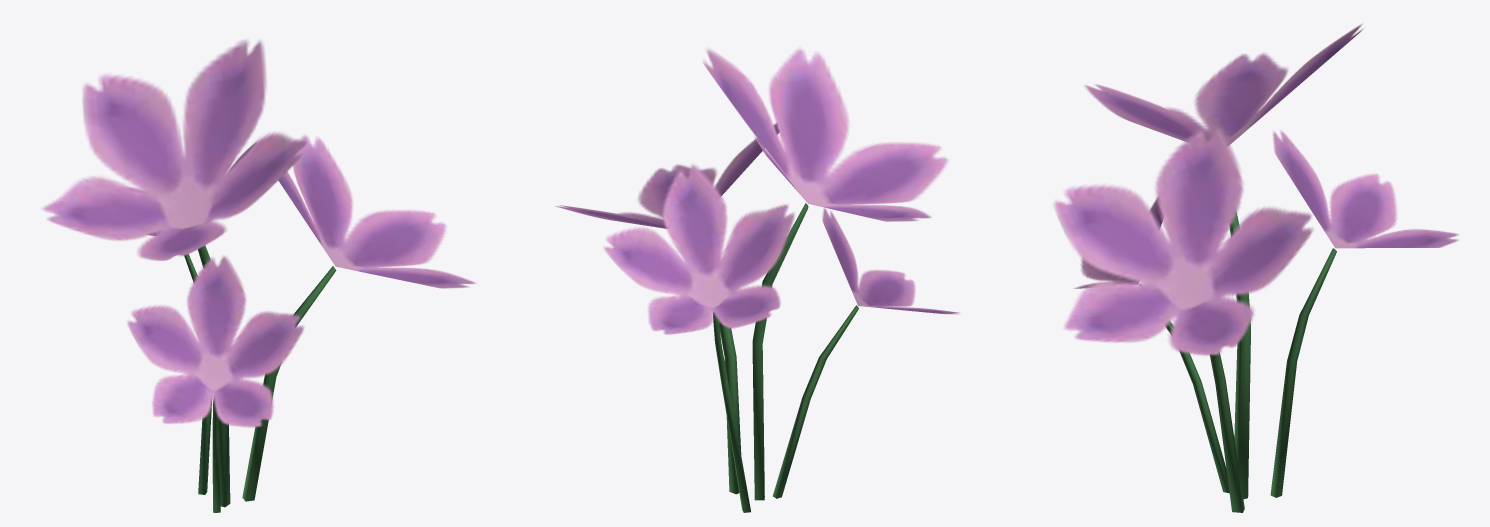
Rendered from flowers-1.glb.
The picture shows the model from 3 angles, left to right: view 1: azimuth 30°, elevation 25°; view 2: azimuth 150°, elevation 25°; view 3: azimuth 270°, elevation 25°; orthographic projection. The views are drawn at different scales.
Visible parts, largest first — view 1: Flower_5_Clump; view 2: Flower_5_Clump; view 3: Flower_5_Clump.
Boxes of the visible parts, x1,y1,x2,y2 form: Flower_5_Clump: (41, 39, 476, 512); Flower_5_Clump: (555, 47, 959, 512); Flower_5_Clump: (1053, 24, 1458, 512).
Size of the model in its own units: 0.426 by 0.4508 by 0.3735.
Materials: 1 (1 with a texture image).
